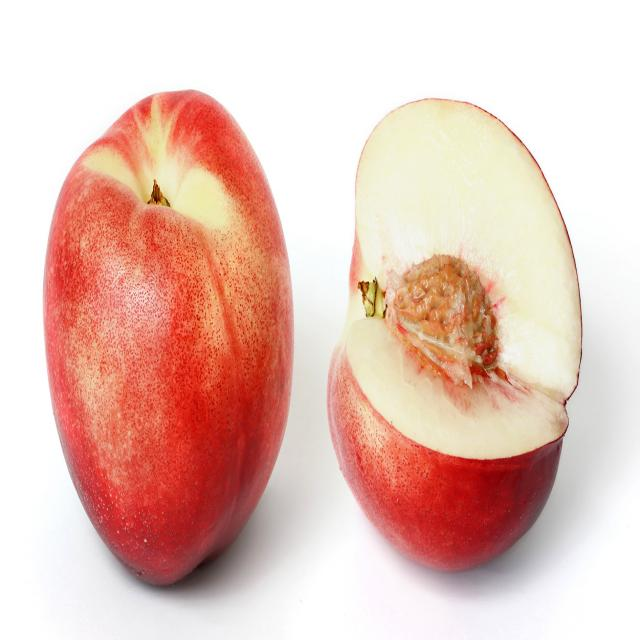peach: (40, 86, 296, 593), (322, 91, 587, 578)
